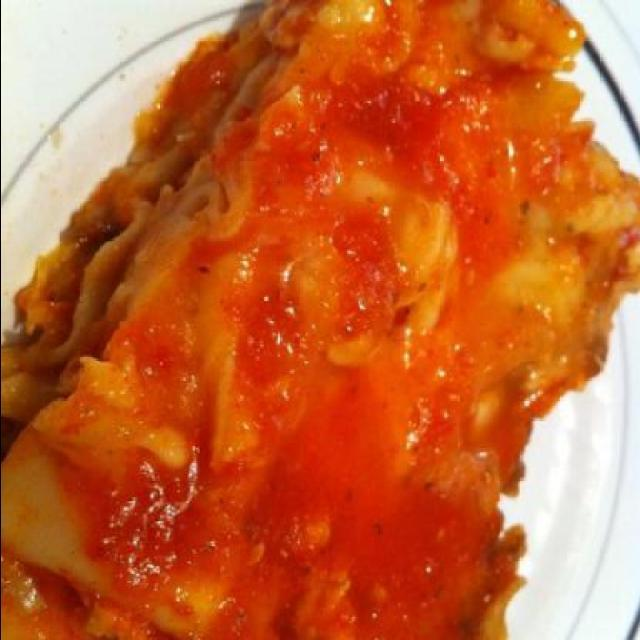Lasagna: (14, 19, 620, 638)
